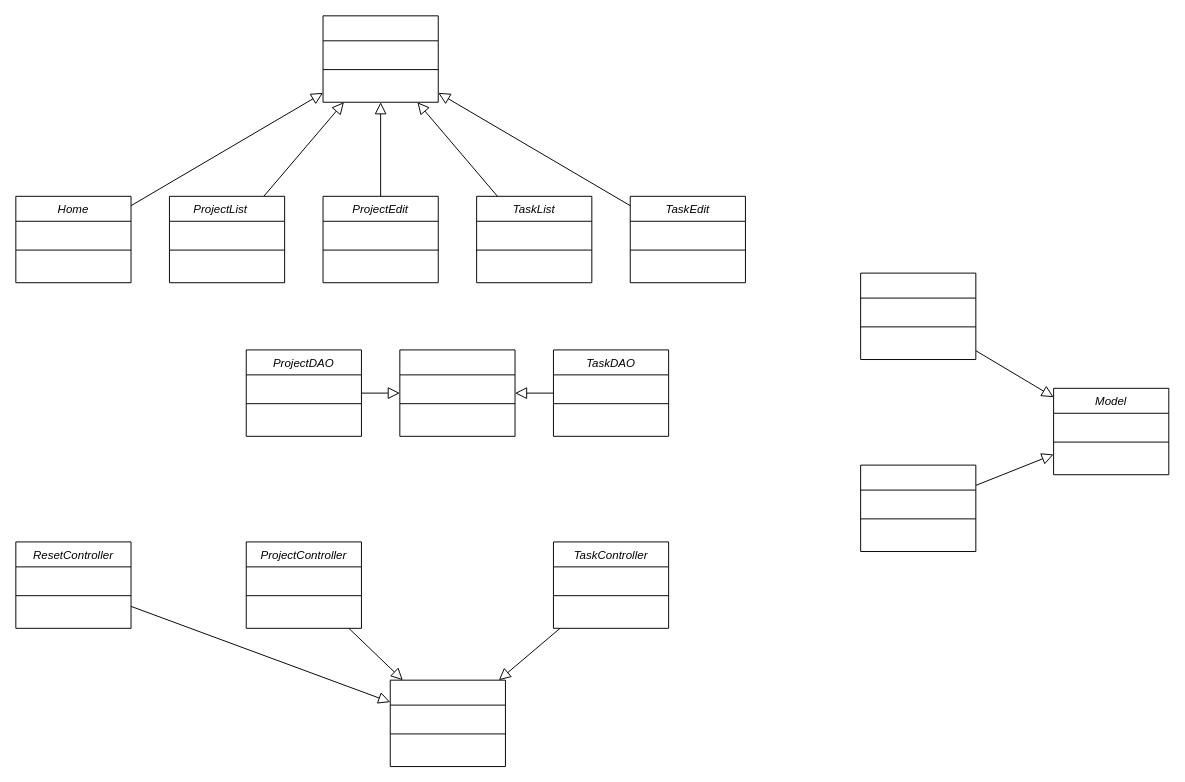
Some shapes in this 1185 by 782 pixel diagram are drawn without their labels. The centre of each missing label's shape, as x and y in pixels:
"Controller" goes at (447,723).
"DAO" goes at (457,392).
"Project" goes at (918,316).
"Task" goes at (918,508).
"View" goes at (380,58).
